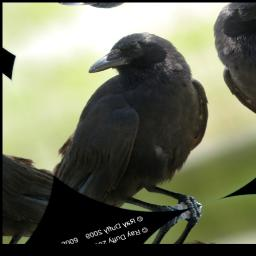Crow: (10, 19, 250, 243)
